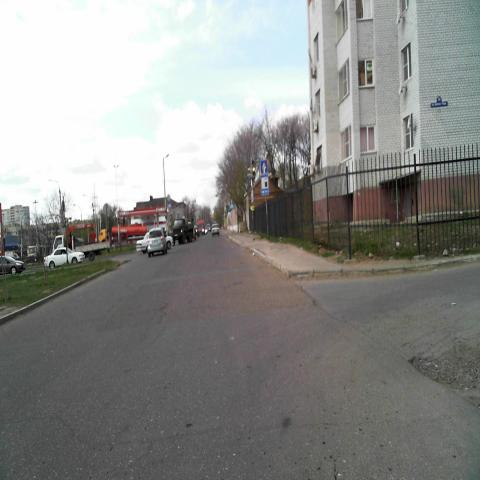5_6: (260, 160, 268, 176)
7_3: (261, 176, 269, 194)
